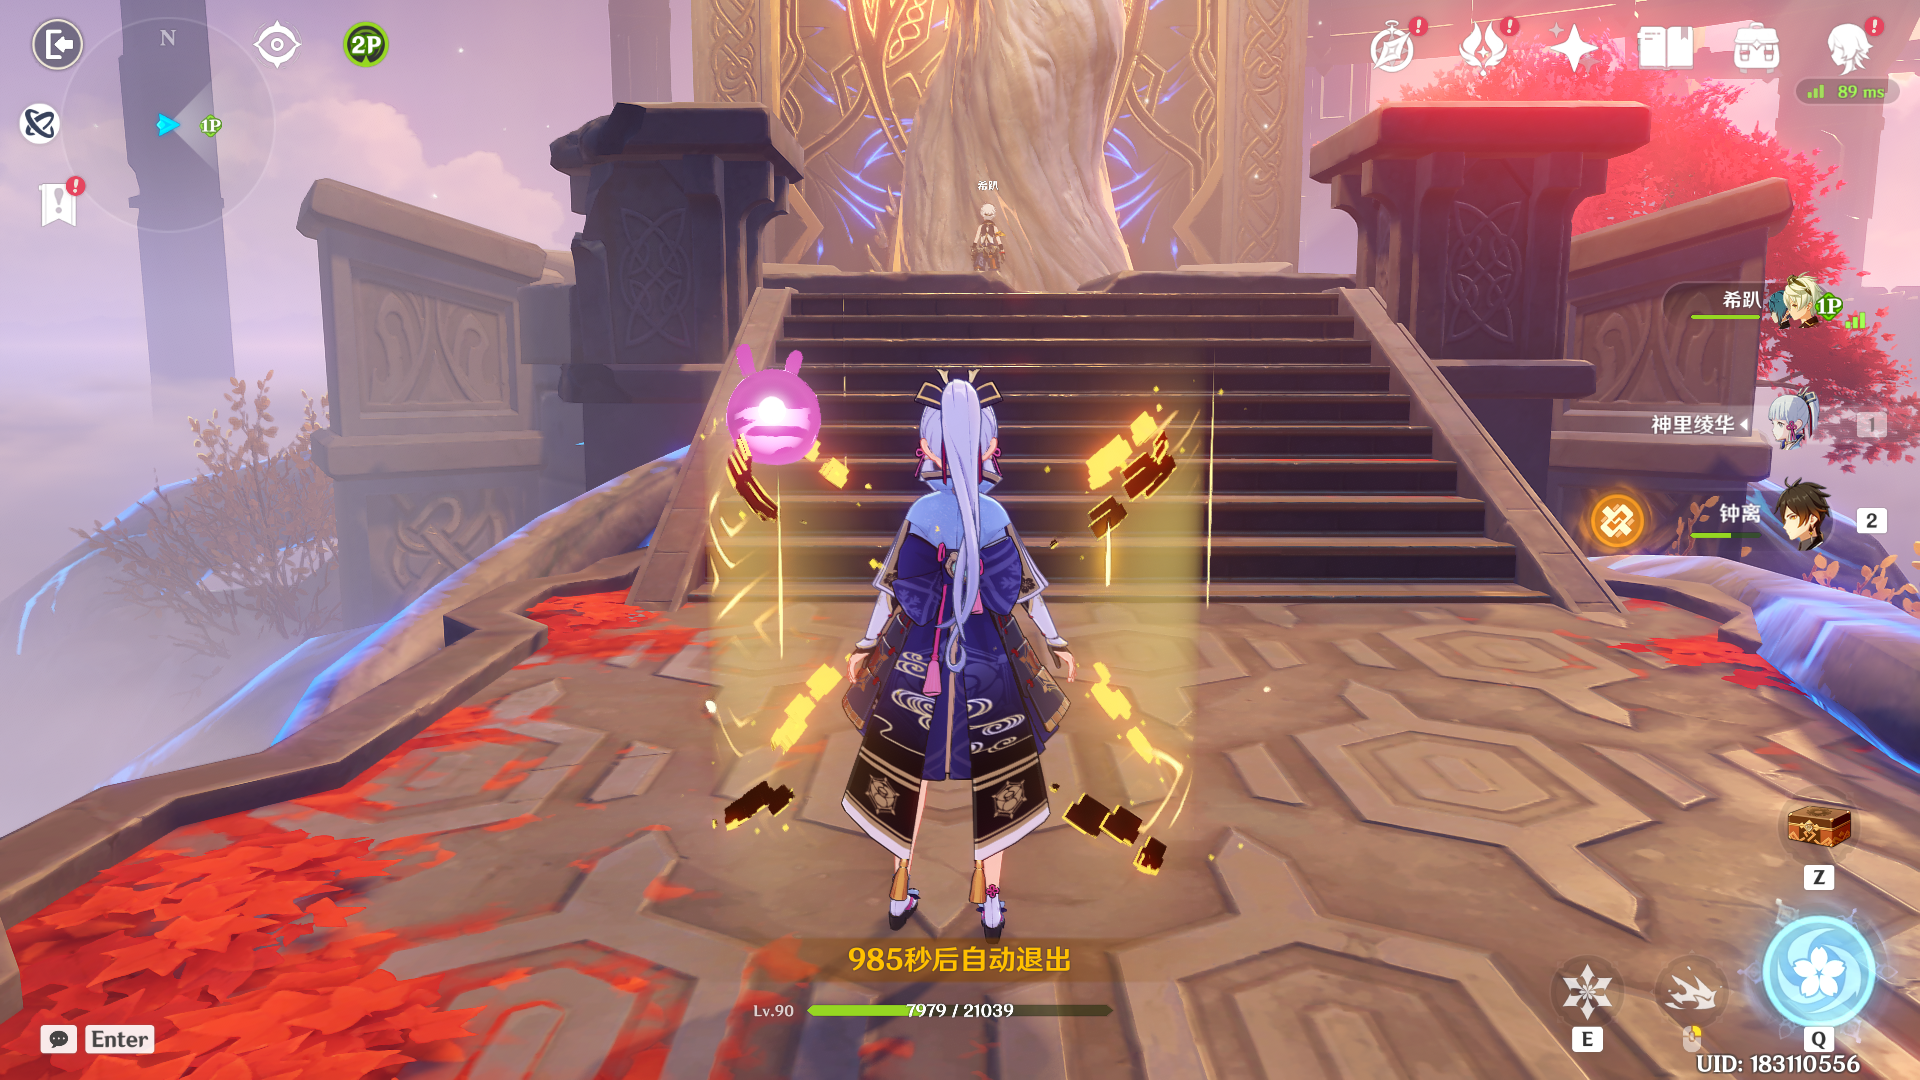character: (694, 320, 1245, 964), (944, 189, 1033, 302)
